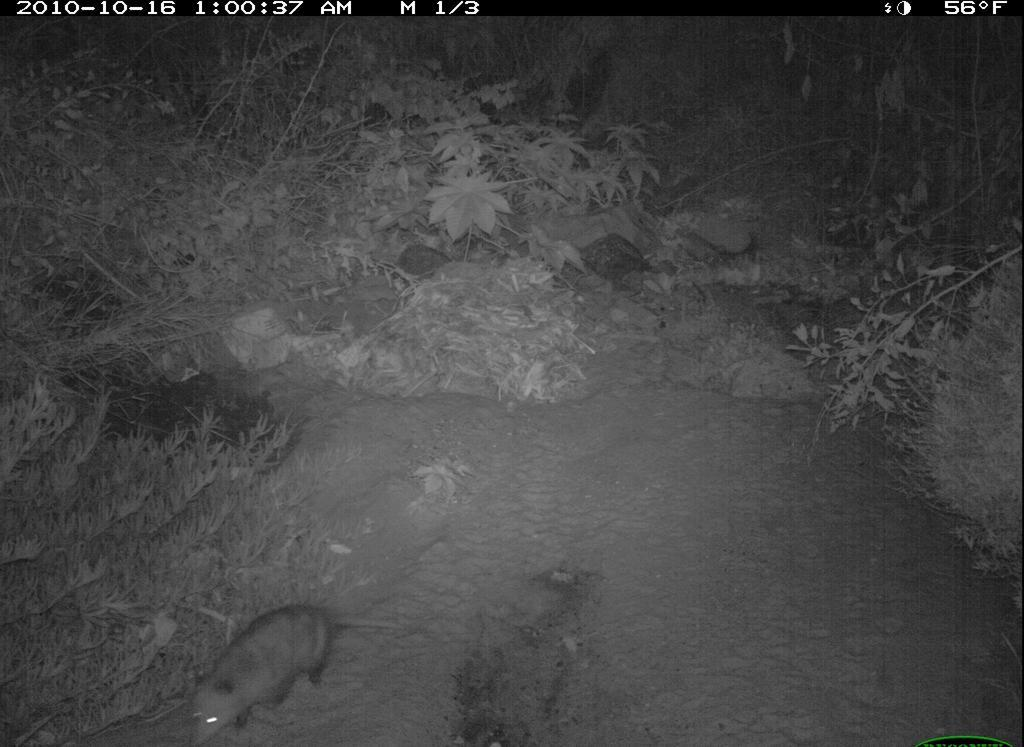opossum: (144, 591, 414, 747)
